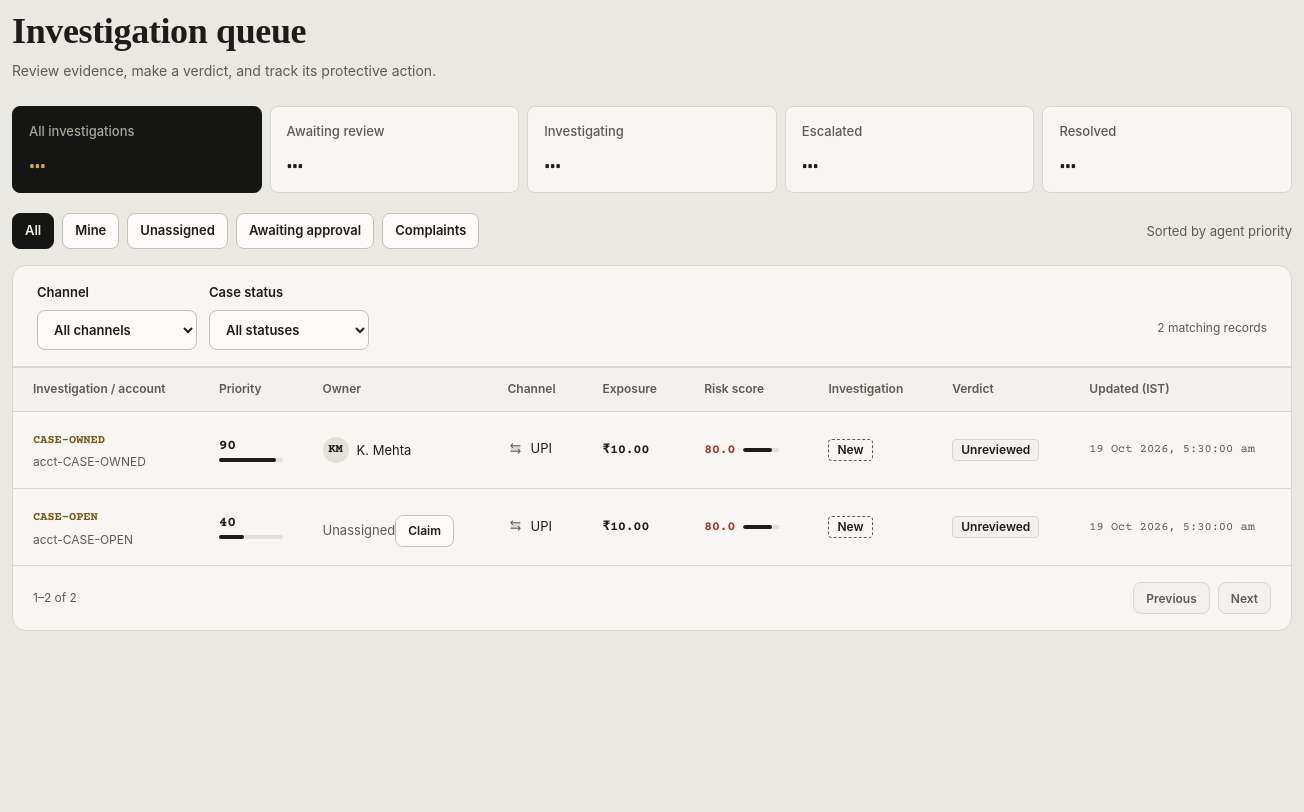
Scenario: Unassigned filter asks the API for that view and hides assigned cases
Expected: the link "CASE-OWNED" is shown, [33, 434, 105, 447]
Expected: the button with aria-label "Claim CASE-OPEN" is shown, [395, 515, 454, 547]
Click the button "Unassigned": (178, 231) [127, 213, 228, 249]
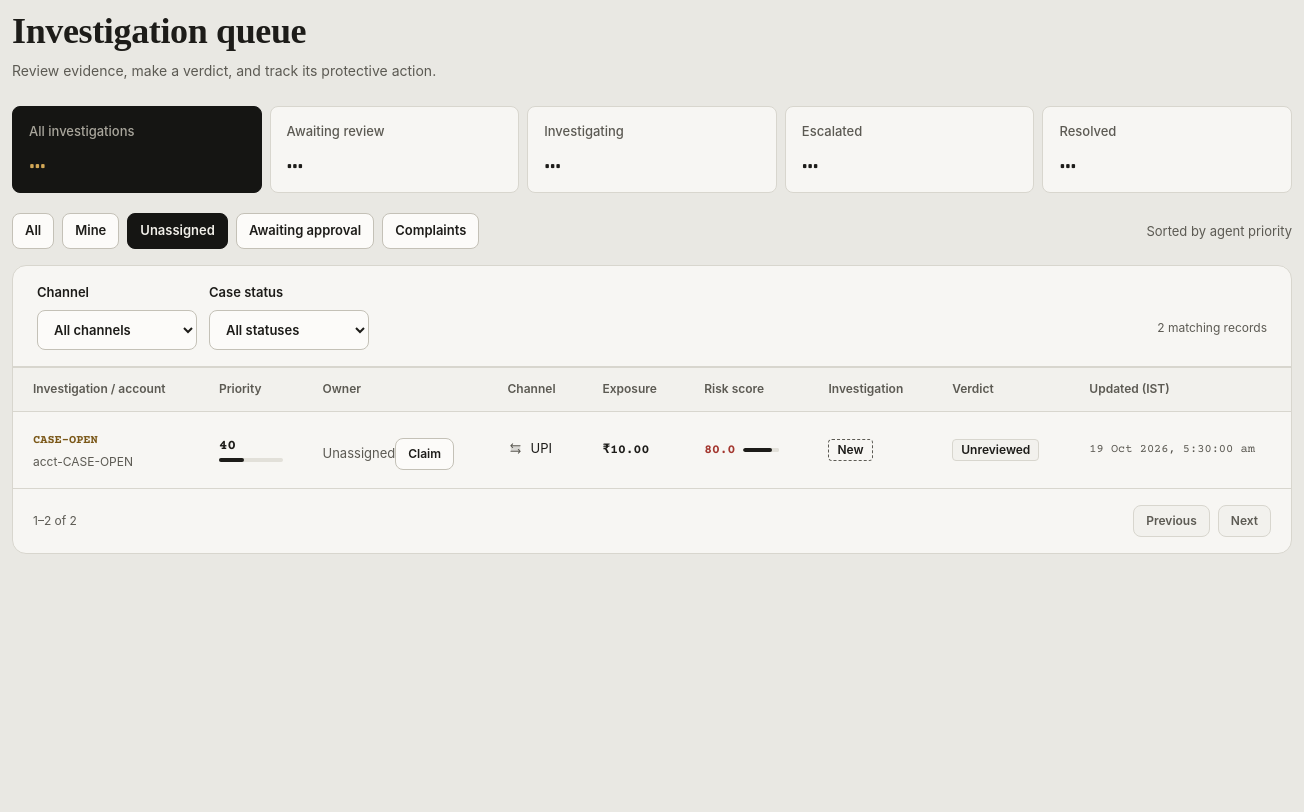
Expected: the link "CASE-OPEN" is shown, [33, 434, 98, 447]
Result: the link "CASE-OWNED" is gone
